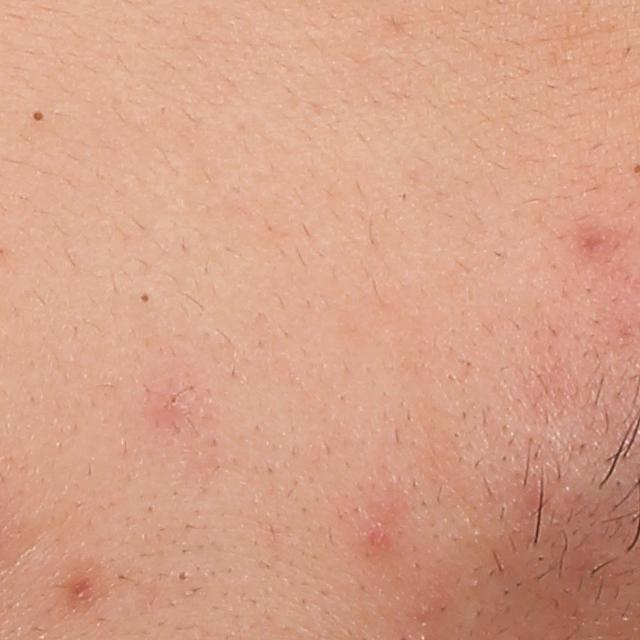comedo: (28, 104, 51, 125), (173, 566, 195, 586), (136, 288, 152, 309)
